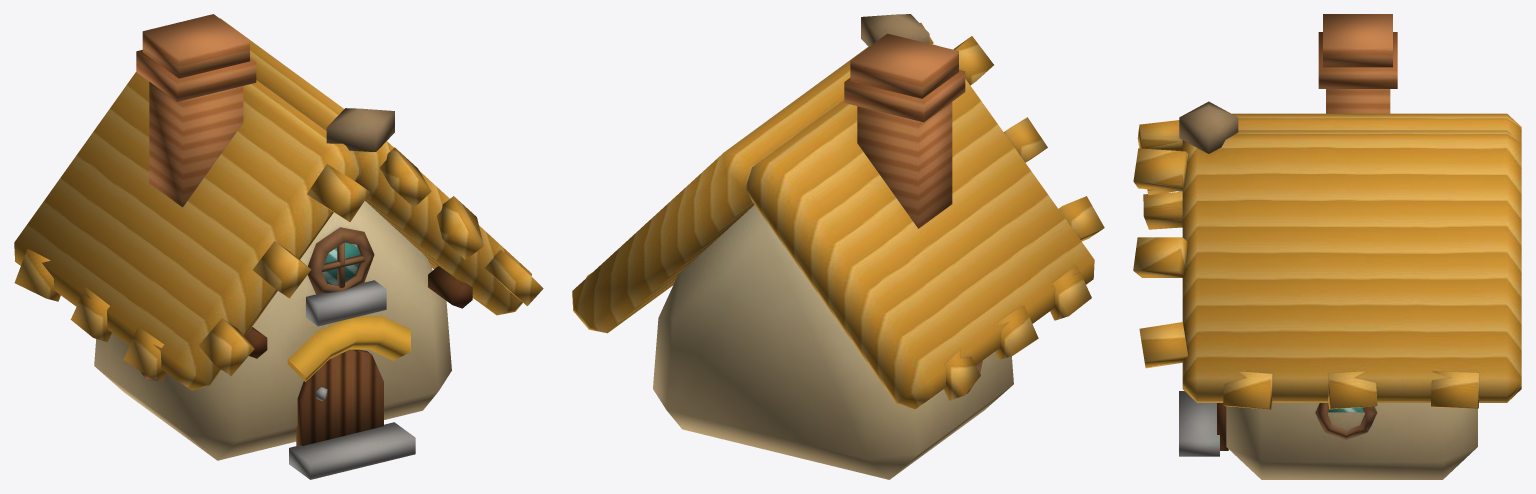
Rendered from hut_3_low.glb.
3 views of the same model, side by side, from view 1: azimuth 30°, elevation 25°; view 2: azimuth 150°, elevation 25°; view 3: azimuth 270°, elevation 25° (orthographic). The views are drawn at different scales.
Parts seen in each view (by area): view 1: hut_3; view 2: hut_3; view 3: hut_3.
Part boxes in pixels (x1,y1,x2,y2): hut_3: [14, 14, 543, 479]; hut_3: [572, 14, 1104, 479]; hut_3: [1133, 14, 1521, 479].
Size of the model in its own units: 1.48 by 1.38 by 1.33.
Materials: 1 (1 with a texture image).
